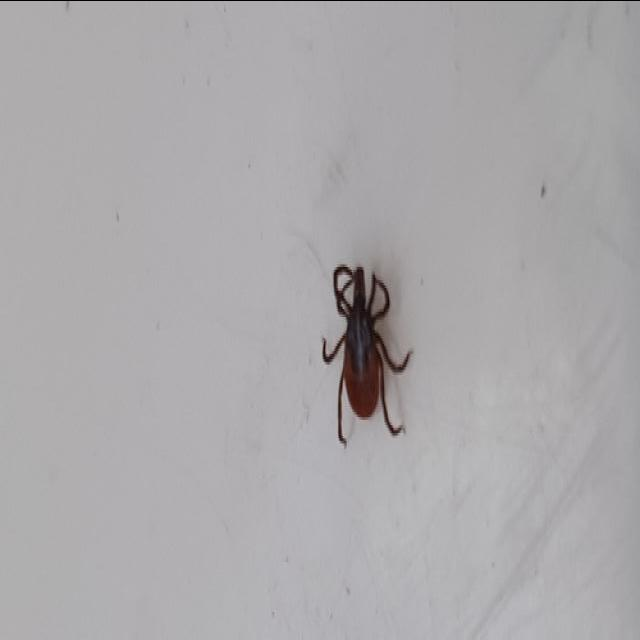Ixodes Ricinus-F: (324, 263, 415, 448)
